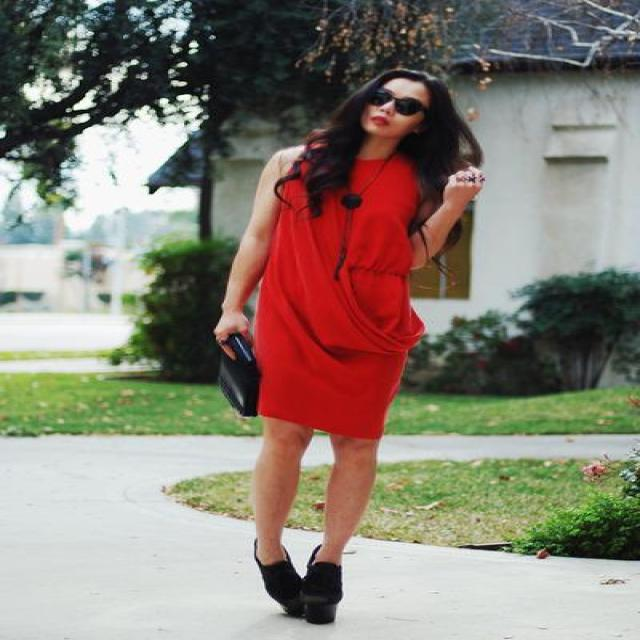bag: (200, 333, 261, 416)
dress: (250, 158, 422, 438)
shoe: (256, 550, 341, 624)
sunglass: (347, 79, 413, 113)
